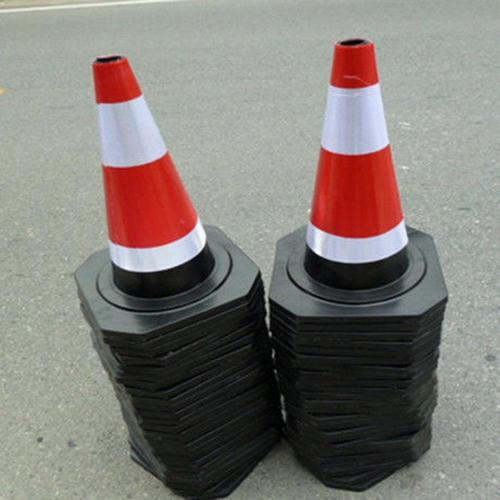cone_barrel: (291, 38, 425, 295), (86, 54, 223, 298)
